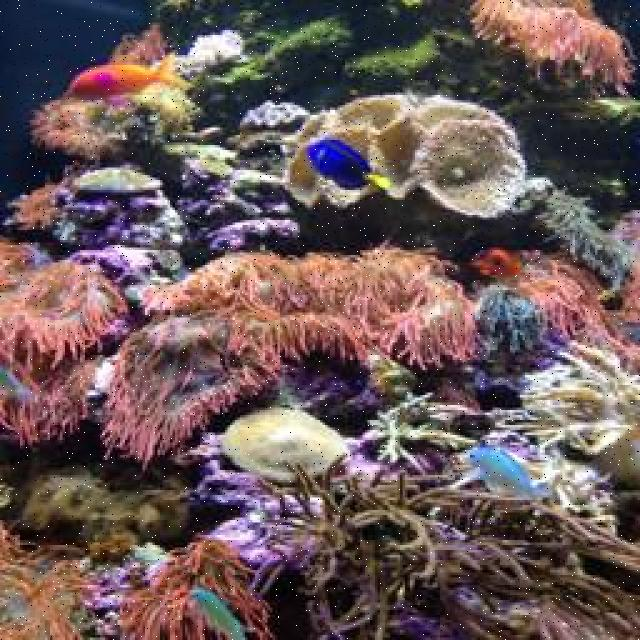fish: (67, 47, 199, 105), (463, 448, 559, 505), (308, 140, 393, 191), (187, 589, 244, 638)
reefs: (99, 243, 486, 467), (242, 455, 638, 636), (280, 92, 527, 254), (488, 339, 638, 519), (0, 235, 125, 447), (466, 1, 636, 93), (522, 252, 638, 370)
